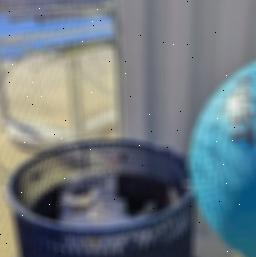algae: (184, 51, 256, 257)
